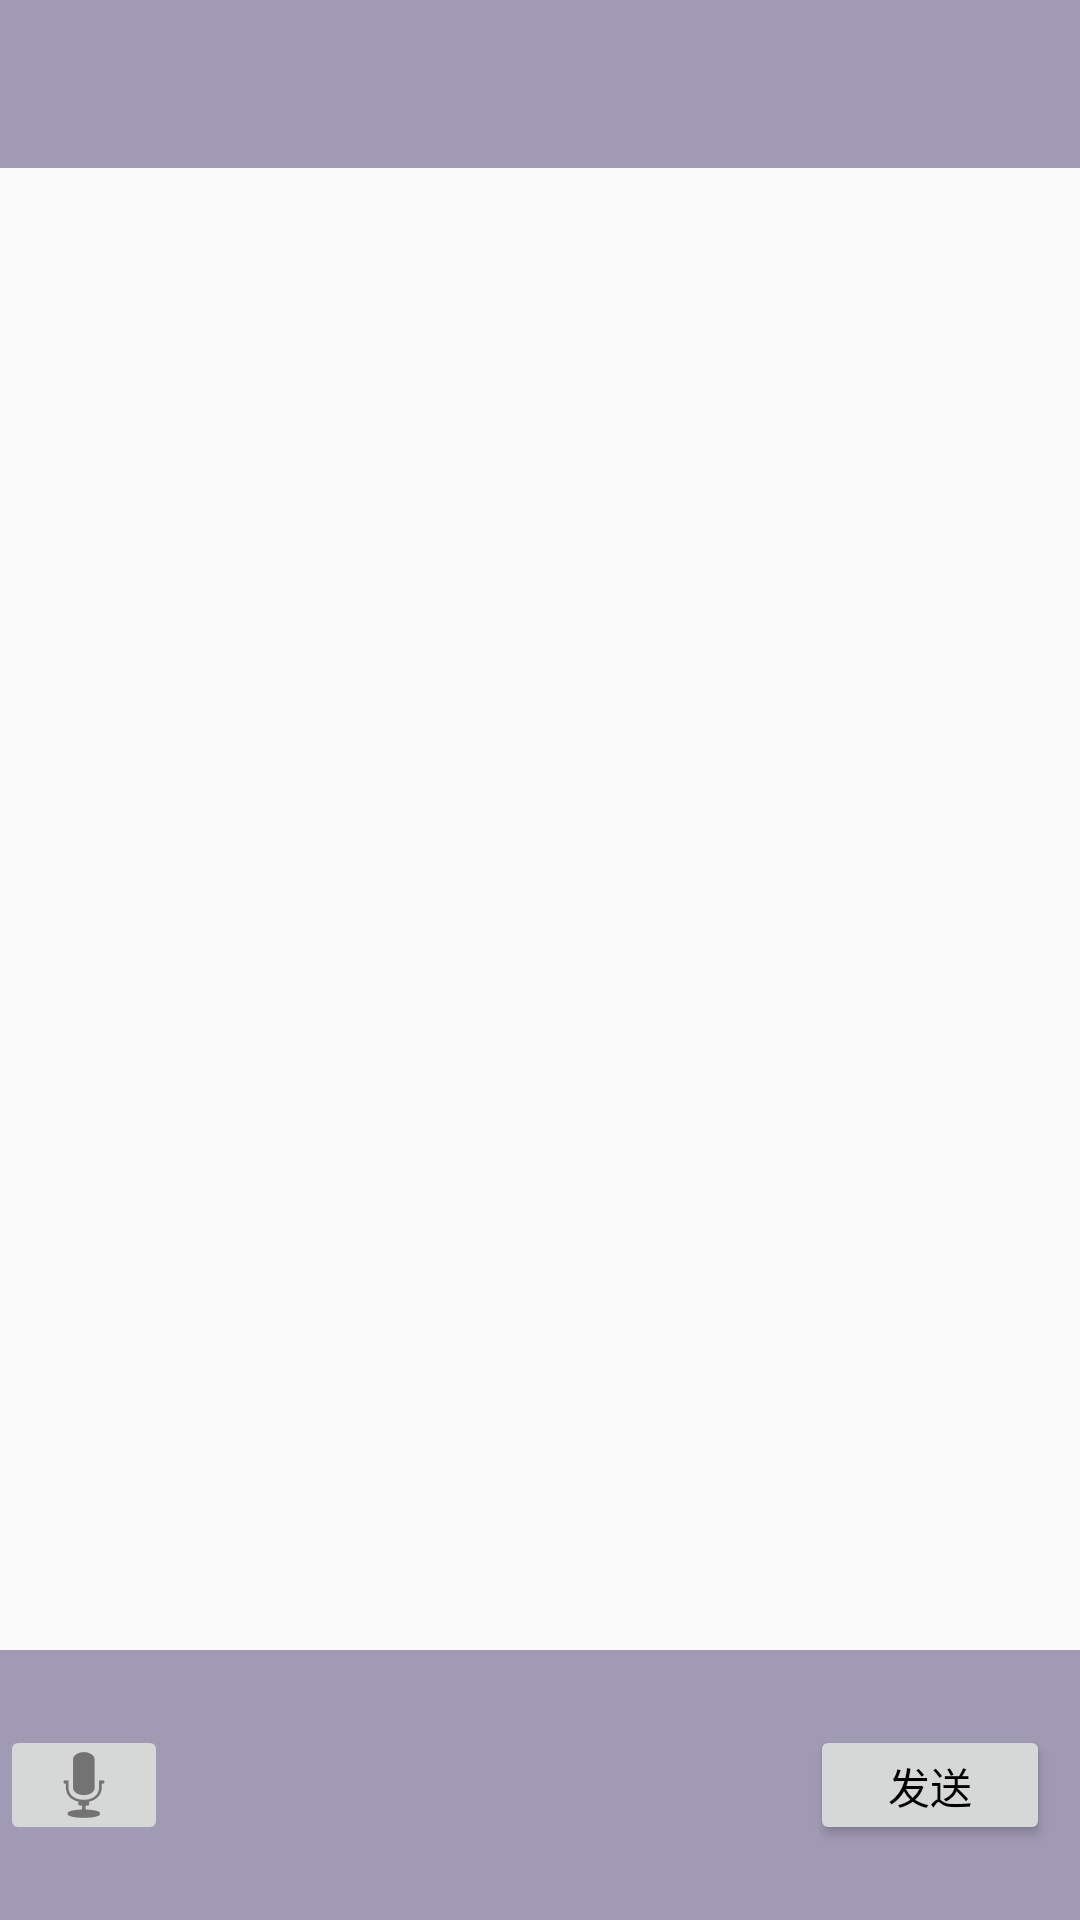

Named icons in this screenshot (1080px x 1920px) and their bounding boxes, (x1, y1, x2, y2):
speak now: (12, 1743, 156, 1827)
